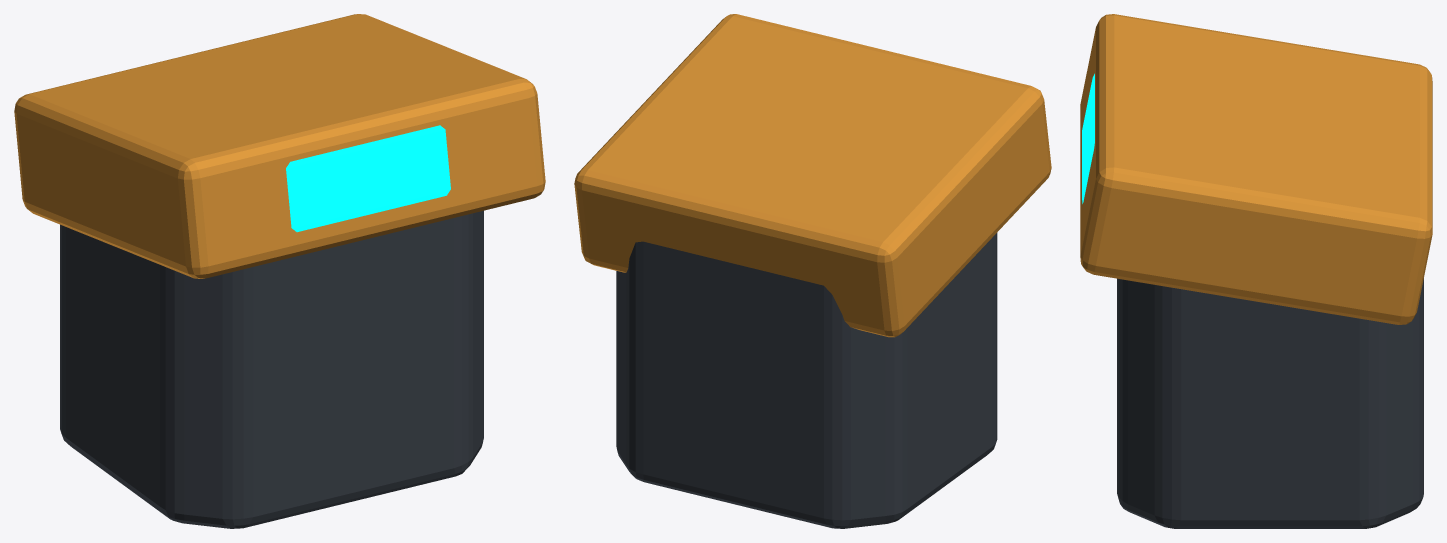
The model's file is SM_RobotCenter_FormTerminal.fbx.
3 views of the same model, side by side, from view 1: azimuth 30°, elevation 25°; view 2: azimuth 150°, elevation 25°; view 3: azimuth 270°, elevation 25° (orthographic). The views are drawn at different scales.
Parts seen in each view (by area): view 1: SM_RobotCenter_FormTerminal.001; view 2: SM_RobotCenter_FormTerminal.001; view 3: SM_RobotCenter_FormTerminal.001.
Part boxes in pixels (x1=…): SM_RobotCenter_FormTerminal.001: x1=14, y1=14, x2=545, y2=528; SM_RobotCenter_FormTerminal.001: x1=574, y1=14, x2=1051, y2=528; SM_RobotCenter_FormTerminal.001: x1=1080, y1=14, x2=1432, y2=528.
Size of the model in its own units: 101 by 112 by 117.
